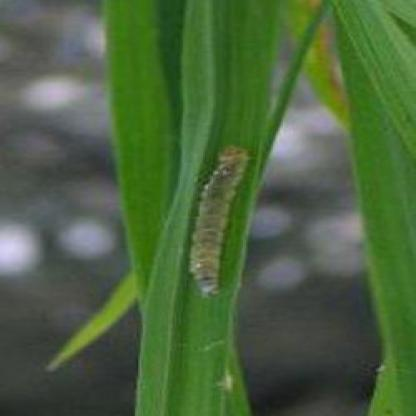leaf-folder: (180, 129, 254, 316)
